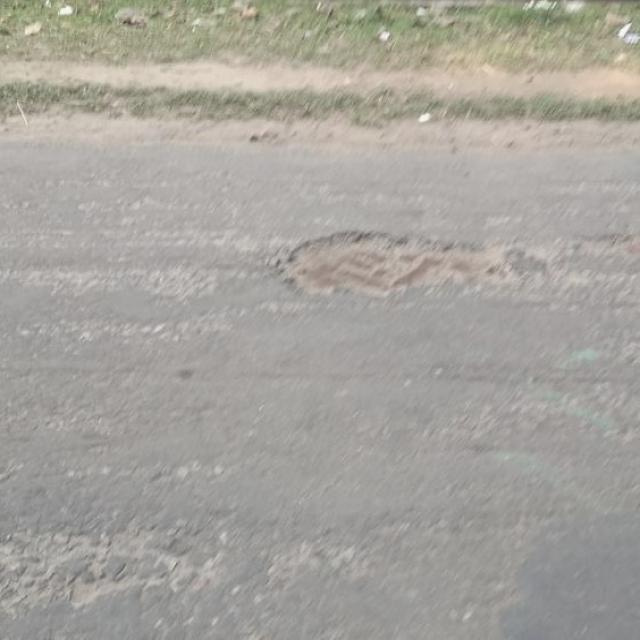road-pothole: (277, 231, 637, 307)
